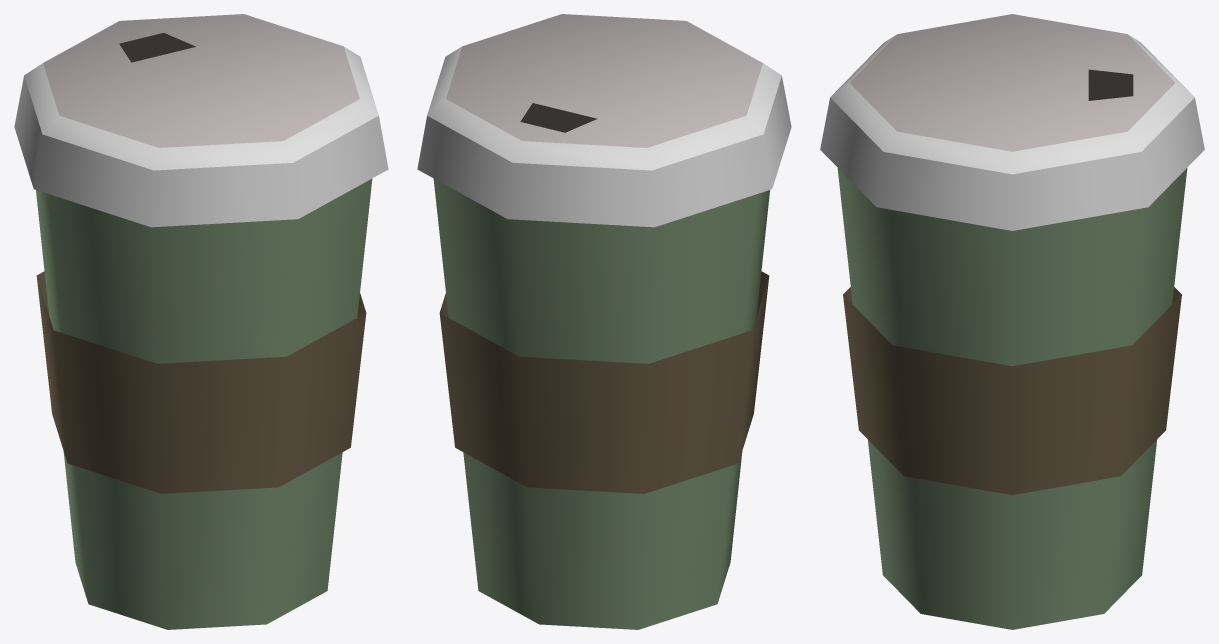
Rendered from clutter_coffeecup.fbx.
The picture shows the model from 3 angles, left to right: view 1: azimuth 30°, elevation 25°; view 2: azimuth 150°, elevation 25°; view 3: azimuth 270°, elevation 25°; orthographic projection.
Visible parts, largest first — view 1: Rectangle01; view 2: Rectangle01; view 3: Rectangle01.
Boxes of the visible parts, x1=… form: Rectangle01: x1=14, y1=14, x2=388, y2=629; Rectangle01: x1=417, y1=14, x2=791, y2=629; Rectangle01: x1=820, y1=14, x2=1204, y2=629.
Size of the model in its own units: 245 by 245 by 345.
